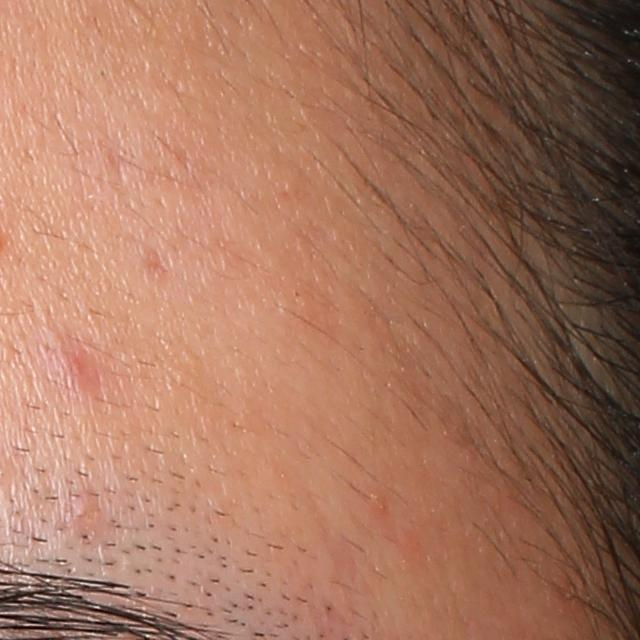papule: (44, 331, 100, 392)
